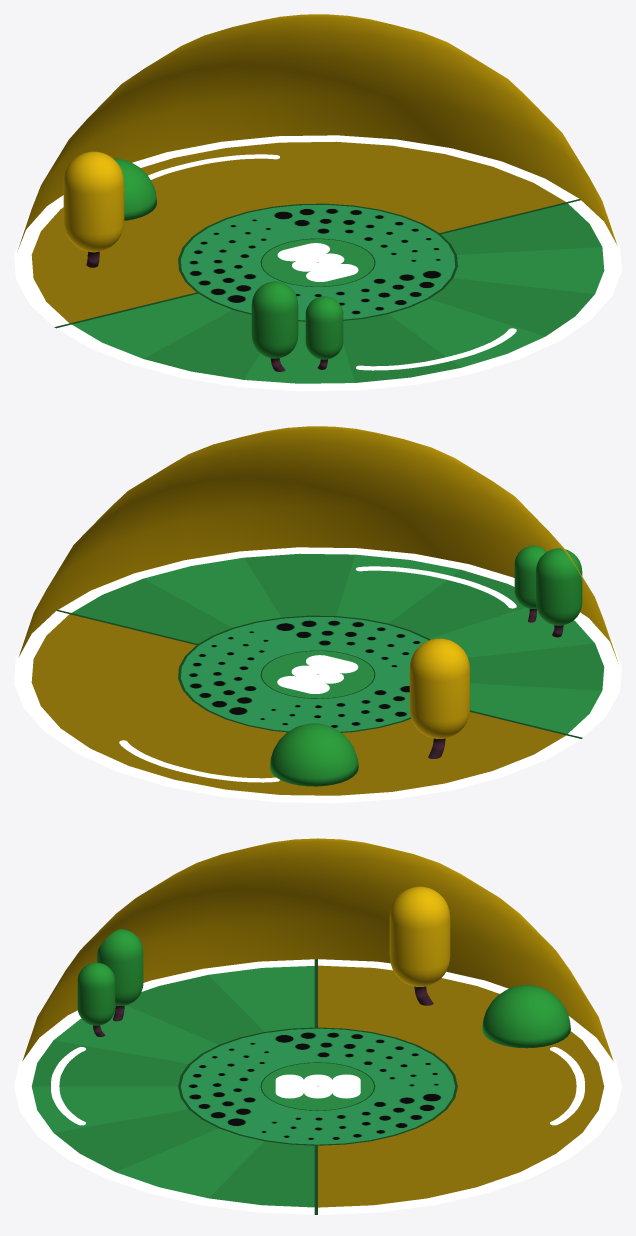
File: farm_interior.glb
3 renders of one model, top to bottom at view 1: azimuth 30°, elevation 25°; view 2: azimuth 150°, elevation 25°; view 3: azimuth 270°, elevation 25°, orthographic.
Visible parts, largest first — view 1: Ground, Walls, Sphere.007, Sphere.001, Sphere.002, Cylinder, Cylinder.001, Sphere.006; view 2: Ground, Walls, Sphere.007, Sphere.006, Sphere.001, Cylinder, Cylinder.001, Sphere.002; view 3: Ground, Walls, Sphere.007, Sphere.006, Sphere.001, Sphere.002, Cylinder, Cylinder.001.
Boxes of the visible parts, bbox=[...] form: Ground: bbox=[14, 135, 621, 391]; Walls: bbox=[18, 14, 617, 249]; Sphere.007: bbox=[63, 151, 124, 267]; Sphere.001: bbox=[251, 281, 298, 371]; Sphere.002: bbox=[305, 296, 343, 369]; Cylinder: bbox=[277, 243, 358, 281]; Cylinder.001: bbox=[148, 154, 516, 370]; Sphere.006: bbox=[113, 158, 156, 220]; Ground: bbox=[14, 547, 621, 803]; Walls: bbox=[18, 426, 617, 661]; Sphere.007: bbox=[409, 638, 469, 758]; Sphere.006: bbox=[270, 723, 358, 786]; Sphere.001: bbox=[536, 548, 582, 637]; Cylinder: bbox=[277, 655, 358, 693]; Cylinder.001: bbox=[119, 566, 516, 782]; Sphere.002: bbox=[514, 545, 546, 622]; Ground: bbox=[14, 959, 621, 1214]; Walls: bbox=[22, 838, 613, 1060]; Sphere.007: bbox=[389, 886, 450, 1005]; Sphere.006: bbox=[482, 985, 570, 1048]; Sphere.001: bbox=[97, 929, 143, 1021]; Sphere.002: bbox=[77, 962, 115, 1036]; Cylinder: bbox=[275, 1074, 360, 1098]; Cylinder.001: bbox=[51, 1047, 584, 1125].
Size of what is drawn, in the model's own units: 252 by 105 by 252.
Materials: 10 (1 with a texture image).
